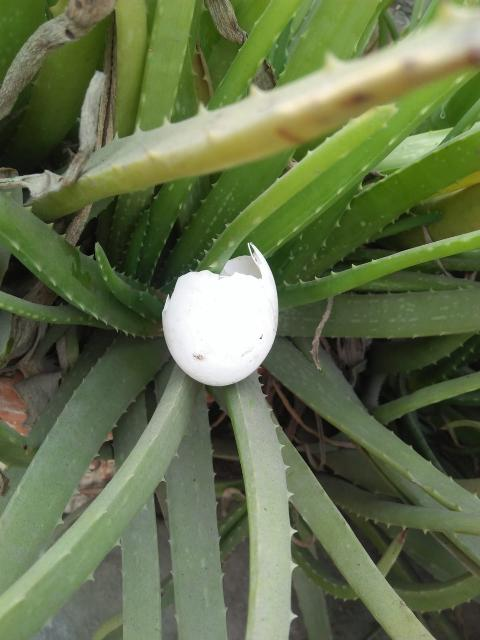Roto: (161, 242, 279, 387)
